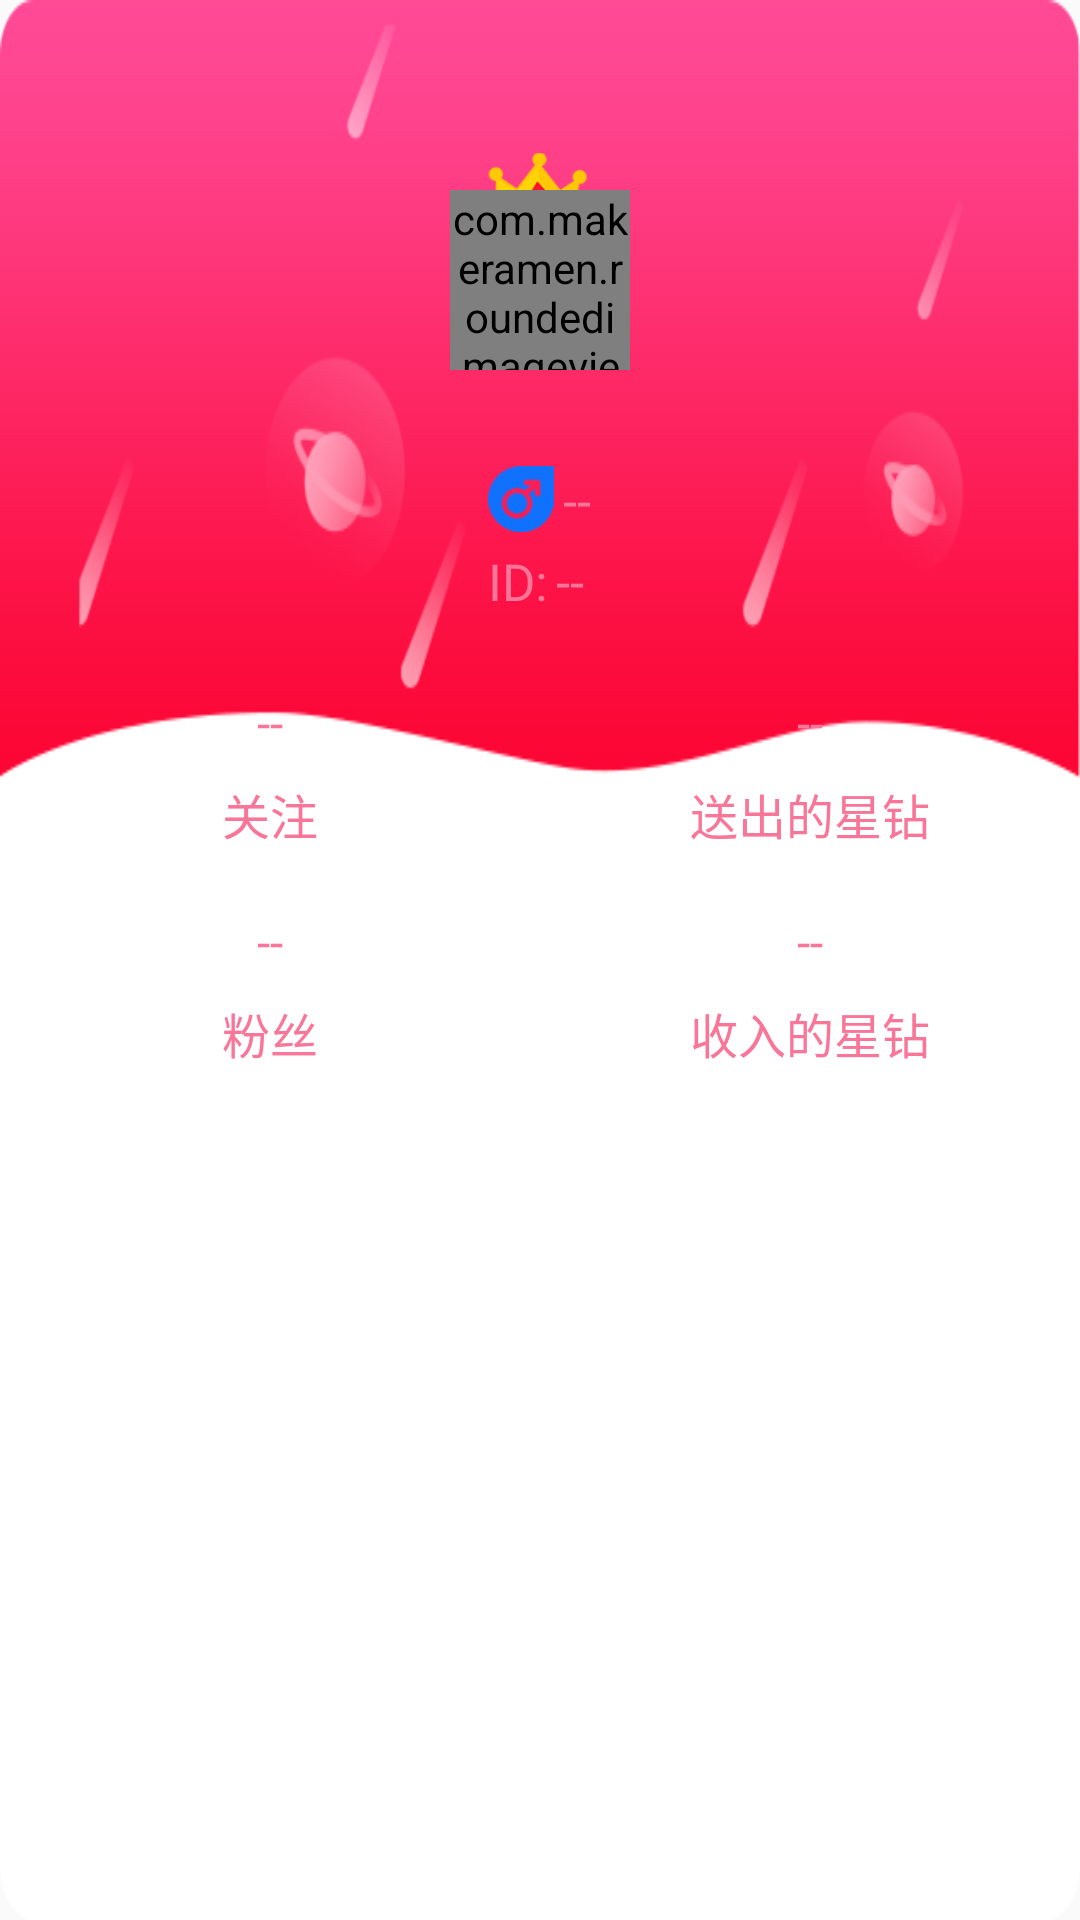

Named icons in this screenshot (1080w x 1920h) and their centers, [x,y]:
man: [521,499]
